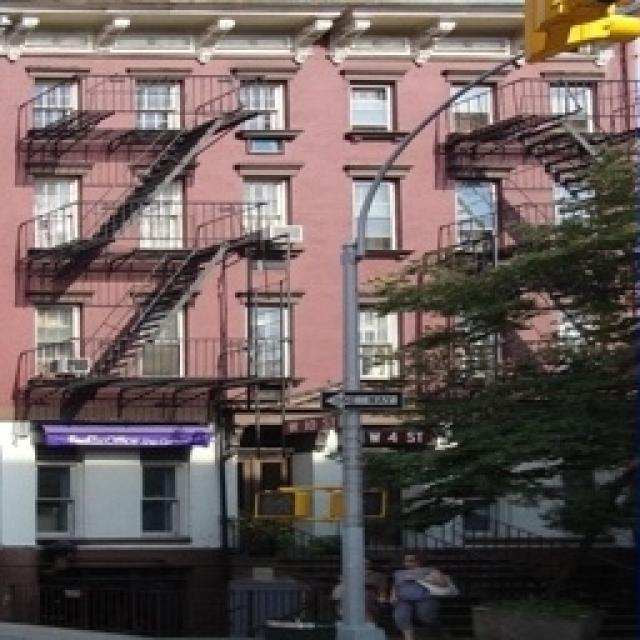building: (2, 7, 639, 640)
